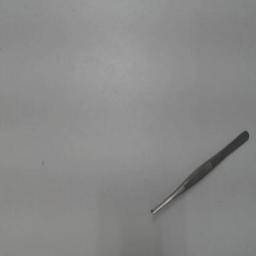Gillies Toothed Dissector: (148, 127, 252, 223)
